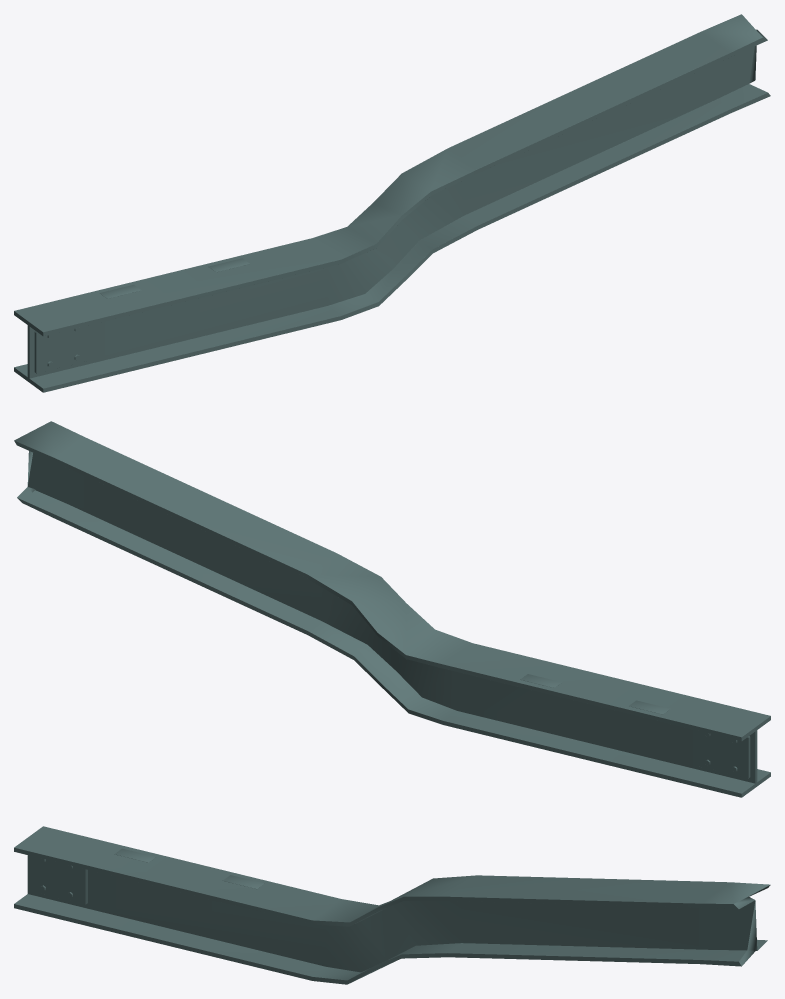
The model's file is OBJ-013_VigaDeformada.fbx.
3 views of the same model, one above another, from view 1: azimuth 30°, elevation 25°; view 2: azimuth 150°, elevation 25°; view 3: azimuth 330°, elevation 25° (orthographic).
Visible parts, largest first — view 1: GEO-OBJ-013_VigaDeformada.001; view 2: GEO-OBJ-013_VigaDeformada.001; view 3: GEO-OBJ-013_VigaDeformada.001.
Boxes of the visible parts, x1=… form: GEO-OBJ-013_VigaDeformada.001: x1=14, y1=14, x2=770, y2=392; GEO-OBJ-013_VigaDeformada.001: x1=14, y1=421, x2=770, y2=797; GEO-OBJ-013_VigaDeformada.001: x1=14, y1=826, x2=770, y2=984.
Bounding box in the file's own units: 4.03 × 0.95 × 0.3274.
